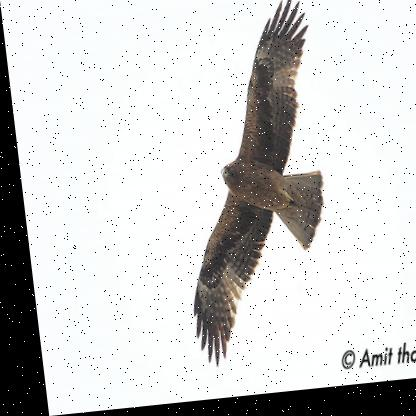Burung: (155, 0, 338, 375)
